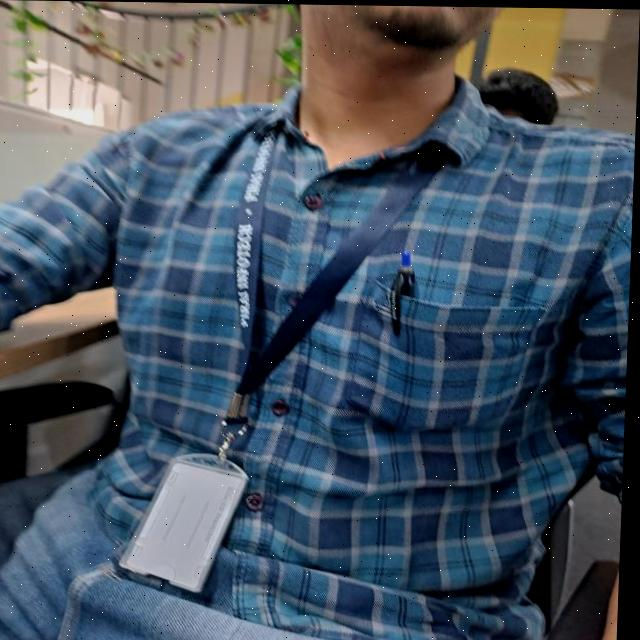id_card: (116, 103, 456, 601)
